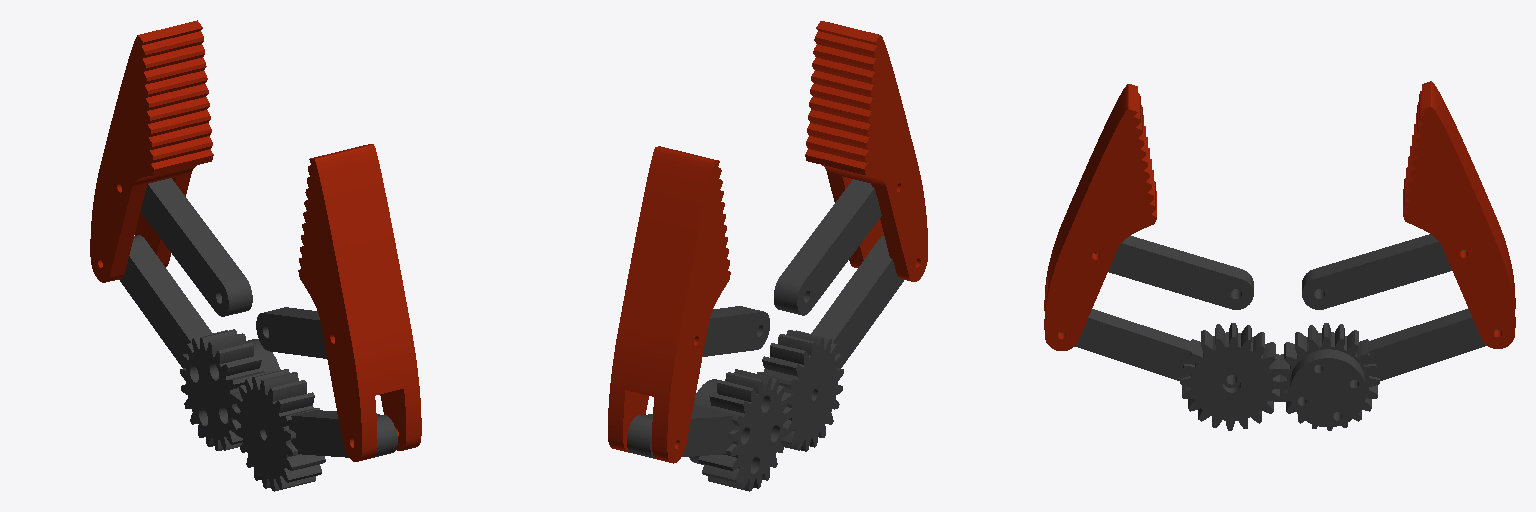
--- Render facts (derived) ---
The picture shows the robot from 3 angles, left to right: view 1: azimuth 30°, elevation 25°; view 2: azimuth 150°, elevation 25°; view 3: azimuth 270°, elevation 25°; orthographic projection.
Robot: fenrir — 12 links, 11 joints (10 revolute, 1 fixed); root link world; default pose: all joints at 0.
Links seen in each view (by area): view 1: tip_slave_link, gripper_tip_link, driving_gear_link, slave_gear_link, rod_slave_link, rod_link; view 2: gripper_tip_link, tip_slave_link, slave_gear_link, driving_gear_link, rod_link, rod_slave_link; view 3: gripper_tip_link, tip_slave_link, driving_gear_link, slave_gear_link, rod_slave_link, rod_link.
Boxes of the visible links, <box> form: tip_slave_link: <box>298,144,421,461</box>; gripper_tip_link: <box>90,20,213,282</box>; driving_gear_link: <box>119,235,280,450</box>; slave_gear_link: <box>236,369,397,491</box>; rod_slave_link: <box>140,178,252,316</box>; rod_link: <box>256,307,326,358</box>; gripper_tip_link: <box>608,146,730,463</box>; tip_slave_link: <box>805,21,927,281</box>; slave_gear_link: <box>757,236,903,451</box>; driving_gear_link: <box>627,369,789,491</box>; rod_link: <box>774,179,881,315</box>; rod_slave_link: <box>703,306,769,356</box>; gripper_tip_link: <box>1403,81,1515,348</box>; tip_slave_link: <box>1044,84,1156,350</box>; driving_gear_link: <box>1277,308,1498,430</box>; slave_gear_link: <box>1060,309,1281,430</box>; rod_slave_link: <box>1302,234,1465,309</box>; rod_link: <box>1095,236,1253,309</box>.
Size in the robot's own frame: 0.0197 by 0.1355 by 0.1046 metres.
6 mesh visuals loaded from 9 distinct referenced files (4 Collada DAE); not drawn: 5 (reference not matched to a file when rendering).

URDF robot description (fenrir):
<?xml version="1.0" encoding="utf-8" ?>
<!-- =================================================================================== -->
<!-- |    This document was autogenerated by xacro from [local-path]/catkin_ws/src/fenrir_common/fenrir_description/urdf/fenrir.xacro | -->
<!-- |    EDITING THIS FILE BY HAND IS NOT RECOMMENDED                                 | -->
<!-- =================================================================================== -->
<robot name="fenrir" xmlns:controller="http://playerstage.sourceforge.net/gazebo/xmlschema/#controller" xmlns:interface="http://playerstage.sourceforge.net/gazebo/xmlschema/#interface" xmlns:sensor="http://playerstage.sourceforge.net/gazebo/xmlschema/#sensor">
    <!-- Used for fixing robot to Gazebo / Can be used to attach the arm in another robot-->
    <link name="world" />
    <!-- ****************************************************** -->
    <!-- *                                          Links                                                           -->
    <!-- ****************************************************** -->
    <!-- LINKS: main serial links -->
    <!-- Base link #1 -->
    <link name="base_link">
        <visual>
            <origin rpy="0 0 0" xyz="0 0 0" />
            <geometry>
                <mesh filename="package://fenrir_description/meshes/visual/base_link.dae" scale="1.0 1.0 1.0" />
            </geometry>
        </visual>
        <collision>
            <origin rpy="0 0 0 " xyz="0 0 0" />
            <geometry>
                <mesh filename="package://fenrir_description/meshes/collision/base_link.stl" scale="0.01 0.01 0.01" />
            </geometry>
        </collision>
        
<inertial>
            <origin rpy="0 0 0" xyz="0 0 0.041" />
            <mass value="0.450" />
            <inertia ixx="0.0011014" ixy="0.0000111" ixz="-0.0000032" iyy="0.0010823" iyz="0.000008" izz="0.0013862" />
        </inertial>

    </link>
    <gazebo reference="base_link">
        <gravity>1</gravity>
        <selfCollide>0</selfCollide>
        <kinematic>1</kinematic>
    </gazebo>
    <!-- Shoulder link #2 -->
    <link name="shoulder_link">
        <visual>
            <origin rpy="0 0 0" xyz="0 0 0" />
            <geometry>
                <mesh filename="package://fenrir_description/meshes/visual/shoulder.dae" scale="1.0 1.0 1.0" />
            </geometry>
        </visual>
        <collision>
            <origin rpy="0 0 0" xyz="0 0 0" />
            <geometry>
                <mesh filename="package://fenrir_description/meshes/collision/shoulder.stl" scale="1.0 1.0 1.0" />
            </geometry>
        </collision>
        
<inertial>
            <origin rpy="0 0 0" xyz="0 0 0.05" />
            <mass value="0.550" />
            <inertia ixx="0.0013305" ixy="0.0" ixz="0.0000025" iyy="0.000682" iyz="0.0" izz="0.0011533" />
        </inertial>

    </link>
    <gazebo reference="shoulder_link">
        <gravity>1</gravity>
        <selfCollide>0</selfCollide>
        <kinematic>1</kinematic>
    </gazebo>
    <!-- Arm link #3 -->
    <link name="arm_link">
        <visual>
            <origin rpy="0 0 0" xyz="0 0 0.006" />
            <geometry>
                <mesh filename="package://fenrir_description/meshes/visual/arm.dae" scale="1.0 1.0 1.0" />
            </geometry>
        </visual>
        <collision>
            <origin rpy="0 0 0" xyz="0 0 0.006" />
            <geometry>
                <mesh filename="package://fenrir_description/meshes/collision/arm.stl" scale="1.0 1.0 1.0" />
            </geometry>
        </collision>
        
<inertial>
            <origin rpy="0 0 0" xyz="0 0 0.081" />
            <mass value="0.350" />
            <inertia ixx="0.0016465460938" ixy="0.0000000673555" ixz="0.0000034090355" iyy="0.0016018608398" iyz="0.0002222412354" izz="0.0001852667358" />
        </inertial>

    </link>
    <gazebo reference="arm_link">
        <gravity>1</gravity>
        <selfCollide>0</selfCollide>
        <kinematic>1</kinematic>
    </gazebo>
    <!-- Forearm link #4 -->
    <link name="forearm_link">
        <visual>
            <origin rpy="0 0 0" xyz="0 0 0" />
            <geometry>
                <mesh filename="package://fenrir_description/meshes/visual/forearm.dae" scale="1.0 1.0 1.0" />
            </geometry>
        </visual>
        <collision>
            <origin rpy="0 0 0" xyz="0 0 0" />
            <geometry>
                <mesh filename="package://fenrir_description/meshes/collision/forearm.stl" scale="1.0 1.0 1.0" />
            </geometry>
        </collision>
        
<inertial>
            <origin rpy="0 0 0" xyz="0 0 0.08" />
            <mass value="0.350" />
            <inertia ixx="0.0005336" ixy="0.0000008" ixz="0.0000025" iyy="0.0005186" iyz="-0.0000849" izz="0.0000674" />
        </inertial>

    </link>
    <gazebo reference="forearm_link">
        <gravity>1</gravity>
        <selfCollide>0</selfCollide>
        <kinematic>1</kinematic>
    </gazebo>
    <!-- Gripper base link #5 -->
    <link name="gripper_base_link">
        <visual>
            <origin rpy="0 0 0" xyz="0 0 0" />
            <geometry>
                <mesh filename="package://fenrir_description/meshes/visual/wrist.dae" scale="1.0 1.0 1.0" />
            </geometry>
        </visual>
        <collision>
            <origin rpy="0 0 0" xyz="0 0 0" />
            <geometry>
                <mesh filename="package://fenrir_description/meshes/collision/wrist.stl" scale="1.0 1.0 1.0" />
            </geometry>
        </collision>
        
<inertial>
            <origin rpy="0 0 0" xyz="0 0 0.02" />
            <mass value="0.155" />
            <inertia ixx="0.0000432" ixy="-0.0000008" ixz="0.0000011" iyy="0.0000346" iyz="-0.0000001" izz="0.0000354" />
        </inertial>

    </link>
    <gazebo reference="gripper_base_link">
        <gravity>1</gravity>
        <selfCollide>0</selfCollide>
        <kinematic>1</kinematic>
    </gazebo>
    <!-- Driving gear link #6 -->
    <link name="driving_gear_link">
        <visual>
            <origin rpy="0 1.57079632679 0" xyz="0 0 0" />
            <geometry>
                <mesh filename="package://fenrir_description/meshes/visual/driving_gear.dae" scale="1 1 1" />
            </geometry>
        </visual>
        <collision>
            <origin rpy="0 1.57079632679 0" xyz="0 0 0" />
            <geometry>
                <mesh filename="package://fenrir_description/meshes/collision/driving_gear.stl" scale="1 1 1" />
            </geometry>
        </collision>
        
<inertial>
            <mass value="0.030" />
            <inertia ixx="0.0000033" ixy="0" ixz="0" iyy="0.0000005" iyz="-0.0000002" izz="0.0000035" />
        </inertial>

    </link>
    <gazebo reference="driving_gear_link">
        <gravity>1</gravity>
        <selfCollide>0</selfCollide>
        <kinematic>1</kinematic>
    </gazebo>
    <link name="slave_gear_link">
        <visual>
            <origin rpy="0 -1.57079632679 0" xyz="0 0 0" />
            <geometry>
                <mesh filename="package://fenrir_description/meshes/visual/slave_gear.dae" scale="1.0 1.0 1.0" />
            </geometry>
        </visual>
        <collision>
            <origin rpy="0 -1.57079632679 0" xyz="0 0 0" />
            <geometry>
                <mesh filename="package://fenrir_description/meshes/collision/slave_gear.stl" scale="1.0 1.0 1.0" />
            </geometry>
        </collision>
        
<inertial>
            <mass value="0.030" />
            <inertia ixx="0.000003" ixy="0.0" ixz="0.0" iyy="0.0000003" iyz="0.0" izz="0.0000032" />
        </inertial>

    </link>
    <gazebo reference="slave_gear_link">
        <gravity>1</gravity>
        <selfCollide>0</selfCollide>
        <kinematic>1</kinematic>
    </gazebo>
    <link name="rod_link">
        <visual>
            <origin rpy="1.57079632679 0 1.57079632679" xyz="-0.0035 0 0" />
            <geometry>
                <mesh filename="package://fenrir_description/meshes/visual/secondaryRod.dae" scale="1.0 1.0 1.0" />
            </geometry>
        </visual>
        <collision>
            <origin rpy="1.57079632679 0 1.57079632679" xyz="-0.0035 0 0" />
            <geometry>
                <mesh filename="package://fenrir_description/meshes/collision/secondaryRod.stl" scale="1.0 1.0 1.0" />
            </geometry>
        </collision>
        
<inertial>
            <mass value="0.010" />
            <inertia ixx="0.0" ixy="0.0" ixz="0.0" iyy="0.0000008" iyz="0.0" izz="0.0000008" />
        </inertial>

    </link>
    <gazebo reference="rod_link">
        <gravity>1</gravity>
        <selfCollide>0</selfCollide>
        <kinematic>1</kinematic>
    </gazebo>
    <link name="rod_slave_link">
        <visual>
            <origin rpy="1.57079632679 0 -1.57079632679" xyz="0.0035 0 0" />
            <geometry>
                <mesh filename="package://fenrir_description/meshes/visual/secondaryRod.dae" scale="1.0 1.0 1.0" />
            </geometry>
        </visual>
        <collision>
            <origin rpy="1.57079632679 0 -1.57079632679" xyz="0.0035 0 0" />
            <geometry>
                <mesh filename="package://fenrir_description/meshes/collision/secondaryRod.stl" scale="1.0 1.0 1.0" />
            </geometry>
        </collision>
        
<inertial>
            <mass value="0.010" />
            <inertia ixx="0.0" ixy="0.0" ixz="0.0" iyy="0.0000008" iyz="0.0" izz="0.0000008" />
        </inertial>

    </link>
    <gazebo reference="rod_slave_link">
        <gravity>1</gravity>
        <selfCollide>0</selfCollide>
        <kinematic>1</kinematic>
    </gazebo>
    <link name="gripper_tip_link">
        <visual>
            <origin rpy="0 1.57079632679 0" xyz="0.0092 0 0" />
            <geometry>
                <mesh filename="package://fenrir_description/meshes/visual/gripperTip.dae" scale="1.0 1.0 1.0" />
            </geometry>
        </visual>
        <collision>
            <origin rpy="0 1.57079632679 0" xyz="0.0092 0 0" />
            <geometry>
                <mesh filename="package://fenrir_description/meshes/collision/gripperTip.stl" scale="1.0 1.0 1.0" />
            </geometry>
        </collision>
        
<inertial>
            <mass value="0.020" />
            <inertia ixx="0.0000008" ixy="-0.0000001" ixz="0.0" iyy="0.0000055" iyz="0.0" izz="0.0000054" />
        </inertial>

    </link>
    <gazebo reference="gripper_tip_link">
        <gravity>1</gravity>
        <selfCollide>0</selfCollide>
        <kinematic>1</kinematic>
    </gazebo>
    <link name="tip_slave_link">
        <visual>
            <origin rpy="3.14159265359 1.57079632679 0" xyz="0.0092 0 0" />
            <geometry>
                <mesh filename="package://fenrir_description/meshes/visual/gripperTip.dae" scale="1.0 1.0 1.0" />
            </geometry>
        </visual>
        <collision>
            <origin rpy="3.14159265359 1.57079632679 0" xyz="0.0092 0 0" />
            <geometry>
                <mesh filename="package://fenrir_description/meshes/collision/gripperTip.stl" scale="1.0 1.0 1.0" />
            </geometry>
        </collision>
        
<inertial>
            <mass value="0.020" />
            <inertia ixx="0.0000008" ixy="-0.0000001" ixz="0.0" iyy="0.0000055" iyz="0.0" izz="0.0000054" />
        </inertial>

    </link>
    <gazebo reference="tip_slave_link">
        <gravity>1</gravity>
        <selfCollide>0</selfCollide>
        <kinematic>1</kinematic>
    </gazebo>
    <!-- ****** JOINT DEFINITIONS ****** -->
    <joint name="base_fixed_joint" type="fixed">
        <origin rpy="0 0 0" xyz="0 0 0.001" />
        <parent link="world" />
        <child link="base_link" />
    </joint>
    <joint name="base_joint" type="revolute">
        <origin rpy="0 0 0" xyz="0 0 0.082" />
        <parent link="base_link" />
        <child link="shoulder_link" />
        <axis xyz="0 0 1" />
        <limit effort="300" lower="-2.967" upper="2.967" velocity="4.01" />
        <dynamics damping="50" friction="1" />
    </joint>
    
<transmission name="tran1">
        <type>transmission_interface/SimpleTransmission</type>
        <joint name="base_joint">
            <hardwareInterface>hardware_interface/PositionJointInterface</hardwareInterface>
            <!--hardwareInterface>hardware_interface/VelocityJointInterface</hardwareInterface-->
            <!--hardwareInterface>hardware_interface/EffortJointInterface</hardwareInterface-->
        </joint>
        <actuator name="base_joint_motor">
            <hardwareInterface>hardware_interface/EffortJointInterface</hardwareInterface>
            <mechanicalReduction>1</mechanicalReduction>
        </actuator>
    </transmission>
    <gazebo reference="base_joint">
        <provideFeedback>0</provideFeedback>
    </gazebo>
    <joint name="shoulder_joint" type="revolute">
        <origin rpy="0 0 0" xyz="0 0 0.082" />
        <parent link="shoulder_link" />
        <child link="arm_link" />
        <axis xyz="0 -1 0" />
        <limit effort="300" lower="-2.2" upper="2.2" velocity="4.93" />
        <dynamics damping="50" friction="1" />
    </joint>
    <transmission name="tran1">
        <type>transmission_interface/SimpleTransmission</type>
        <joint name="shoulder_joint">
            <hardwareInterface>hardware_interface/PositionJointInterface</hardwareInterface>
            <!--hardwareInterface>hardware_interface/VelocityJointInterface</hardwareInterface-->
            <!--hardwareInterface>hardware_interface/EffortJointInterface</hardwareInterface-->
        </joint>
        <actuator name="shoulder_joint_motor">
            <hardwareInterface>hardware_interface/EffortJointInterface</hardwareInterface>
            <mechanicalReduction>1</mechanicalReduction>
        </actuator>
    </transmission>
    <gazebo reference="shoulder_joint">
        <provideFeedback>0</provideFeedback>
    </gazebo>
    <joint name="elbow_joint" type="revolute">
        <origin rpy="0 0 0" xyz="0 0.001 0.195" />
        <parent link="arm_link" />
        <child link="forearm_link" />
        <axis xyz="0 -1 0" />
        <limit effort="300" lower="-2.4" upper="2.4" velocity="7.01" />
        <dynamics damping="50" friction="1" />
    </joint>
    <transmission name="tran1">
        <type>transmission_interface/SimpleTransmission</type>
        <joint name="elbow_joint">
            <hardwareInterface>hardware_interface/PositionJointInterface</hardwareInterface>
            <!--hardwareInterface>hardware_interface/VelocityJointInterface</hardwareInterface-->
            <!--hardwareInterface>hardware_interface/EffortJointInterface</hardwareInterface-->
        </joint>
        <actuator name="elbow_joint_motor">
            <hardwareInterface>hardware_interface/EffortJointInterface</hardwareInterface>
            <mechanicalReduction>1</mechanicalReduction>
        </actuator>
    </transmission>
    <gazebo reference="elbow_joint">
        <provideFeedback>0</provideFeedback>
    </gazebo>
    <joint name="wrist_joint" type="revolute">
        <origin rpy="0 0 -3.14159265359" xyz="0 0 0.19" />
        <parent link="forearm_link" />
        <child link="gripper_base_link" />
        <axis xyz="0 0 1" />
        <limit effort="100" lower="-1.57079632679" upper="1.57079632679" velocity="4.50" />
        <dynamics damping="50" friction="1" />
    </joint>
    <transmission name="tran1">
        <type>transmission_interface/SimpleTransmission</type>
        <joint name="wrist_joint">
            <hardwareInterface>hardware_interface/PositionJointInterface</hardwareInterface>
            <!--hardwareInterface>hardware_interface/VelocityJointInterface</hardwareInterface-->
            <!--hardwareInterface>hardware_interface/EffortJointInterface</hardwareInterface-->
        </joint>
        <actuator name="wrist_joint_motor">
            <hardwareInterface>hardware_interface/EffortJointInterface</hardwareInterface>
            <mechanicalReduction>1</mechanicalReduction>
        </actuator>
    </transmission>
    <gazebo reference="wrist_joint">
        <provideFeedback>0</provideFeedback>
    </gazebo>
    <joint name="gripper_joint" type="revolute">
        <origin rpy="2.79159265359 0 0" xyz="-0.011 -0.014 0.0262" />
        <parent link="gripper_base_link" />
        <child link="driving_gear_link" />
        <axis xyz="1 0 0" />
        <limit effort="100" lower="-0.83" upper="0" velocity="4.50" />
        <dynamics damping="50" friction="1" />
    </joint>
    <transmission name="tran1">
        <type>transmission_interface/SimpleTransmission</type>
        <joint name="gripper_joint">
            <hardwareInterface>hardware_interface/PositionJointInterface</hardwareInterface>
            <!--hardwareInterface>hardware_interface/VelocityJointInterface</hardwareInterface-->
            <!--hardwareInterface>hardware_interface/EffortJointInterface</hardwareInterface-->
        </joint>
        <actuator name="gripper_joint_motor">
            <hardwareInterface>hardware_interface/EffortJointInterface</hardwareInterface>
            <mechanicalReduction>1</mechanicalReduction>
        </actuator>
    </transmission>
    <gazebo reference="gripper_joint">
        <provideFeedback>0</provideFeedback>
    </gazebo>
    <joint name="gripper_slave_joint" type="revolute">
        <origin rpy="3.49159265359 0 0" xyz="0.005 0.0137 0.0262" />
        <parent link="gripper_base_link" />
        <child link="slave_gear_link" />
        <axis xyz="1 0 0" />
        <limit effort="100" lower="-3.31" upper="3.31" velocity="4.50" />
        <dynamics damping="50" friction="1" />
        <mimic joint="gripper_joint" multiplier="-1" offset="0" />
    </joint>
    <gazebo>
        <!-- old version -->
        <plugin filename="libroboticsgroup_upatras_gazebo_mimic_joint_plugin.so" name="gripper_slave_jointmimic_joint_plugin">
            <joint>gripper_joint</joint>
            <mimicJoint>gripper_slave_joint</mimicJoint>
            <multiplier>-1.0</multiplier>
            <offset>0</offset>
            <sensitiveness>0.0</sensitiveness>
            <!-- if absolute difference between setpoint and process value is below this threshold, do nothing; 0.0 = disable [rad] -->
            <maxEffort>100.0</maxEffort>
        </plugin>
    </gazebo>
    <!-- <xacro:transmission_block joint_name="gripper_slave_joint" /> -->
    <gazebo reference="gripper_slave_joint">
        <provideFeedback>0</provideFeedback>
    </gazebo>
    <joint name="rod_left_joint" type="revolute">
        <origin rpy="0.32 0 0" xyz="0 0.0124 0.054" />
        <parent link="gripper_base_link" />
        <child link="rod_link" />
        <axis xyz="-1 0 0" />
        <limit effort="100" lower="-3.31" upper="3.31" velocity="4.50" />
        <dynamics damping="50" friction="1" />
        <mimic joint="gripper_joint" multiplier="1.26" offset="0" />
    </joint>
    <gazebo>
        <!-- old version -->
        <plugin filename="libroboticsgroup_upatras_gazebo_mimic_joint_plugin.so" name="rod_left_jointmimic_joint_plugin">
            <joint>gripper_joint</joint>
            <mimicJoint>rod_left_joint</mimicJoint>
            <multiplier>1.26</multiplier>
            <offset>0</offset>
            <sensitiveness>0.0</sensitiveness>
            <!-- if absolute difference between setpoint and process value is below this threshold, do nothing; 0.0 = disable [rad] -->
            <maxEffort>100.0</maxEffort>
        </plugin>
    </gazebo>
    <!-- <xacro:transmission_block joint_name="rod_left_joint" /> -->
    <gazebo reference="rod_left_joint">
        <provideFeedback>0</provideFeedback>
    </gazebo>
    <joint name="rod_right_joint" type="revolute">
        <origin rpy="-0.32 0 0" xyz="0 -0.0115 0.054" />
        <parent link="gripper_base_link" />
        <child link="rod_slave_link" />
        <axis xyz="-1 0 0" />
        <limit effort="100" lower="-3.31" upper="3.31" velocity="4.50" />
        <dynamics damping="50" friction="1" />
        <mimic joint="gripper_joint" multiplier="-1.26" offset="0" />
    </joint>
    <gazebo>
        <!-- old version -->
        <plugin filename="libroboticsgroup_upatras_gazebo_mimic_joint_plugin.so" name="rod_right_jointmimic_joint_plugin">
            <joint>gripper_joint</joint>
            <mimicJoint>rod_right_joint</mimicJoint>
            <multiplier>-1.26</multiplier>
            <offset>0</offset>
            <sensitiveness>0.0</sensitiveness>
            <!-- if absolute difference between setpoint and process value is below this threshold, do nothing; 0.0 = disable [rad] -->
            <maxEffort>100.0</maxEffort>
        </plugin>
    </gazebo>
    <!-- <xacro:transmission_block joint_name="rod_right_joint" /> -->
    <gazebo reference="rod_right_joint">
        <provideFeedback>0</provideFeedback>
    </gazebo>
    <joint name="tip_left_joint" type="revolute">
        <origin rpy="-0.02 0 0" xyz="-0.007 0.052 0" />
        <parent link="driving_gear_link" />
        <child link="gripper_tip_link" />
        <axis xyz="1 0 0" />
        <limit effort="100" lower="-3.31" upper="3.31" velocity="4.50" />
        <dynamics damping="50" friction="1" />
        <mimic joint="gripper_joint" multiplier="-0.8" offset="0" />
    </joint>
    <gazebo>
        <!-- old version -->
        <plugin filename="libroboticsgroup_upatras_gazebo_mimic_joint_plugin.so" name="tip_left_jointmimic_joint_plugin">
            <joint>gripper_joint</joint>
            <mimicJoint>tip_left_joint</mimicJoint>
            <multiplier>-0.8</multiplier>
            <offset>0</offset>
            <sensitiveness>0.0</sensitiveness>
            <!-- if absolute difference between setpoint and process value is below this threshold, do nothing; 0.0 = disable [rad] -->
            <maxEffort>100.0</maxEffort>
        </plugin>
    </gazebo>
    <!-- <xacro:transmission_block joint_name="tip_left_joint" /> -->
    <gazebo reference="tip_left_joint">
        <provideFeedback>0</provideFeedback>
    </gazebo>
    <joint name="tip_right_joint" type="revolute">
        <origin rpy="0.02 0 0" xyz="-0.007 -0.052 0" />
        <parent link="slave_gear_link" />
        <child link="tip_slave_link" />
        <axis xyz="1 0 0" />
        <limit effort="100" lower="-3.31" upper="3.31" velocity="4.50" />
        <dynamics damping="50" friction="1" />
        <mimic joint="gripper_joint" multiplier="0.8" offset="0" />
    </joint>
    <gazebo>
        <!-- old version -->
        <plugin filename="libroboticsgroup_upatras_gazebo_mimic_joint_plugin.so" name="tip_right_jointmimic_joint_plugin">
            <joint>gripper_joint</joint>
            <mimicJoint>tip_right_joint</mimicJoint>
            <multiplier>0.8</multiplier>
            <offset>0</offset>
            <sensitiveness>0.0</sensitiveness>
            <!-- if absolute difference between setpoint and process value is below this threshold, do nothing; 0.0 = disable [rad] -->
            <maxEffort>100.0</maxEffort>
        </plugin>
    </gazebo>
    <!-- <xacro:transmission_block joint_name="tip_right_joint" /> -->
    <gazebo reference="tip_right_joint">
        <provideFeedback>0</provideFeedback>
    </gazebo>
    <!-- ros_control plugin -->
    <gazebo>
        <plugin filename="libgazebo_ros_control.so" name="gazebo_ros_control">
            <robotNamespace>/</robotNamespace>
            <robotSimType>gazebo_ros_control/DefaultRobotHWSim</robotSimType>
            <legacyModeNS>true</legacyModeNS>
        </plugin>
    </gazebo>
    <transmission name="trans_base_joint">
        <type>transmission_interface/SimpleTransmission</type>
        <joint name="base_joint">
            <hardwareInterface>hardware_interface/EffortJointInterface</hardwareInterface>
        </joint>
        <actuator name="base_joint_motor">
            <hardwareInterface>hardware_interface/EffortJointInterface</hardwareInterface>
            <mechanicalReduction>1</mechanicalReduction>
        </actuator>
    </transmission>
    <transmission name="trans_shoulder_joint">
        <type>transmission_interface/SimpleTransmission</type>
        <joint name="shoulder_joint">
            <hardwareInterface>hardware_interface/EffortJointInterface</hardwareInterface>
        </joint>
        <actuator name="shoulder_joint_motor">
            <hardwareInterface>hardware_interface/EffortJointInterface</hardwareInterface>
            <mechanicalReduction>1</mechanicalReduction>
        </actuator>
    </transmission>
    <transmission name="trans_elbow_joint">
        <type>transmission_interface/SimpleTransmission</type>
        <joint name="elbow_joint">
            <hardwareInterface>hardware_interface/EffortJointInterface</hardwareInterface>
        </joint>
        <actuator name="elbow_joint_motor">
            <hardwareInterface>hardware_interface/EffortJointInterface</hardwareInterface>
            <mechanicalReduction>1</mechanicalReduction>
        </actuator>
    </transmission>
    <transmission name="trans_wrist_joint">
        <type>transmission_interface/SimpleTransmission</type>
        <joint name="wrist_joint">
            <hardwareInterface>hardware_interface/EffortJointInterface</hardwareInterface>
        </joint>
        <actuator name="wrist_joint_motor">
            <hardwareInterface>hardware_interface/EffortJointInterface</hardwareInterface>
            <mechanicalReduction>1</mechanicalReduction>
        </actuator>
    </transmission>
    <transmission name="trans_gripper_joint">
        <type>transmission_interface/SimpleTransmission</type>
        <joint name="gripper_joint">
            <hardwareInterface>hardware_interface/EffortJointInterface</hardwareInterface>
        </joint>
        <actuator name="gripper_joint_motor">
            <hardwareInterface>hardware_interface/EffortJointInterface</hardwareInterface>
            <mechanicalReduction>1</mechanicalReduction>
        </actuator>
    </transmission>
    <transmission name="trans_gripper_slave_joint">
        <type>transmission_interface/SimpleTransmission</type>
        <joint name="gripper_slave_joint">
            <hardwareInterface>hardware_interface/EffortJointInterface</hardwareInterface>
        </joint>
        <actuator name="gripper_slave_joint_motor">
            <hardwareInterface>hardware_interface/EffortJointInterface</hardwareInterface>
            <mechanicalReduction>1</mechanicalReduction>
        </actuator>
    </transmission>
    <transmission name="trans_rod_left_joint">
        <type>transmission_interface/SimpleTransmission</type>
        <joint name="rod_left_joint">
            <hardwareInterface>hardware_interface/EffortJointInterface</hardwareInterface>
        </joint>
        <actuator name="rod_left_joint_motor">
            <hardwareInterface>hardware_interface/EffortJointInterface</hardwareInterface>
            <mechanicalReduction>1</mechanicalReduction>
        </actuator>
    </transmission>
    <transmission name="trans_rod_right_joint">
        <type>transmission_interface/SimpleTransmission</type>
        <joint name="rod_right_joint">
            <hardwareInterface>hardware_interface/EffortJointInterface</hardwareInterface>
        </joint>
        <actuator name="rod_right_joint_motor">
            <hardwareInterface>hardware_interface/EffortJointInterface</hardwareInterface>
            <mechanicalReduction>1</mechanicalReduction>
        </actuator>
    </transmission>
    <transmission name="trans_tip_left_joint">
        <type>transmission_interface/SimpleTransmission</type>
        <joint name="tip_left_joint">
            <hardwareInterface>hardware_interface/EffortJointInterface</hardwareInterface>
        </joint>
        <actuator name="tip_left_joint_motor">
            <hardwareInterface>hardware_interface/EffortJointInterface</hardwareInterface>
            <mechanicalReduction>1</mechanicalReduction>
        </actuator>
    </transmission>
    <transmission name="trans_tip_right_joint">
        <type>transmission_interface/SimpleTransmission</type>
        <joint name="tip_right_joint">
            <hardwareInterface>hardware_interface/EffortJointInterface</hardwareInterface>
        </joint>
        <actuator name="tip_right_joint_motor">
            <hardwareInterface>hardware_interface/EffortJointInterface</hardwareInterface>
            <mechanicalReduction>1</mechanicalReduction>
        </actuator>
    </transmission>
    <gazebo>
        <plugin name="gazebo_ros_control" filename="libgazebo_ros_control.so">
            <robotNamespace>/</robotNamespace>
        </plugin>
    </gazebo>
</robot>
